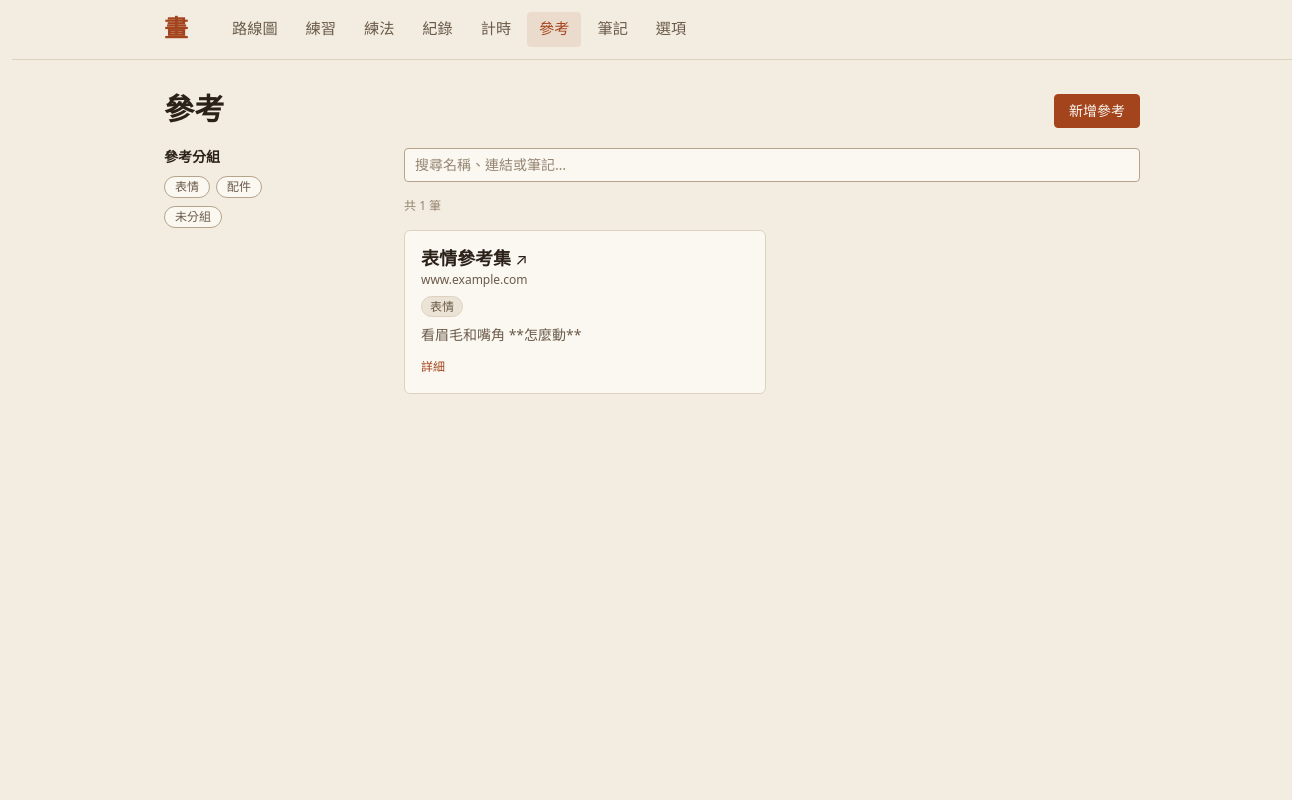
Test: the references library › writes a group click and 未分組 to the URL and refetches with them
The width and height of the screenshot is (1292, 800).
Click the button "配件": (239, 187) [216,176,262,198]
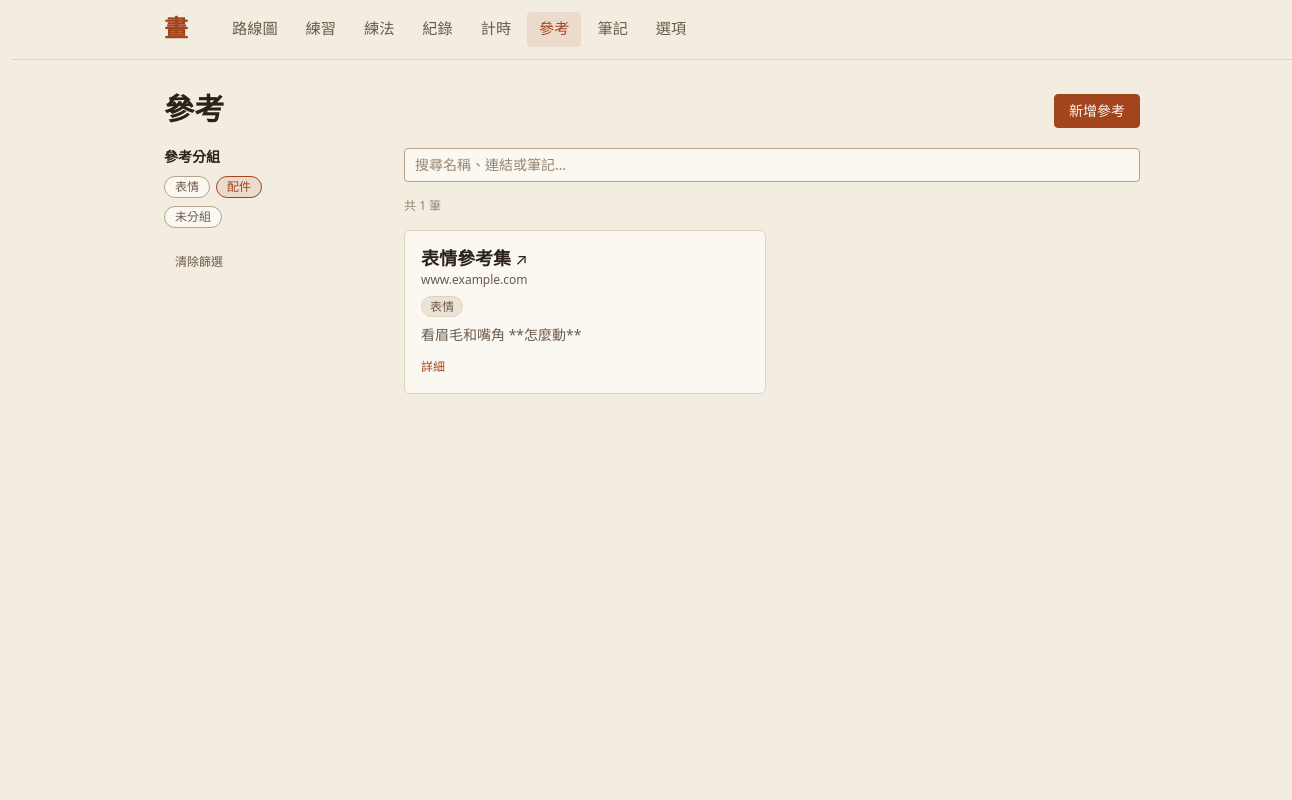
Click the button "未分組": (193, 217) [164,206,222,228]
(page scrolled)
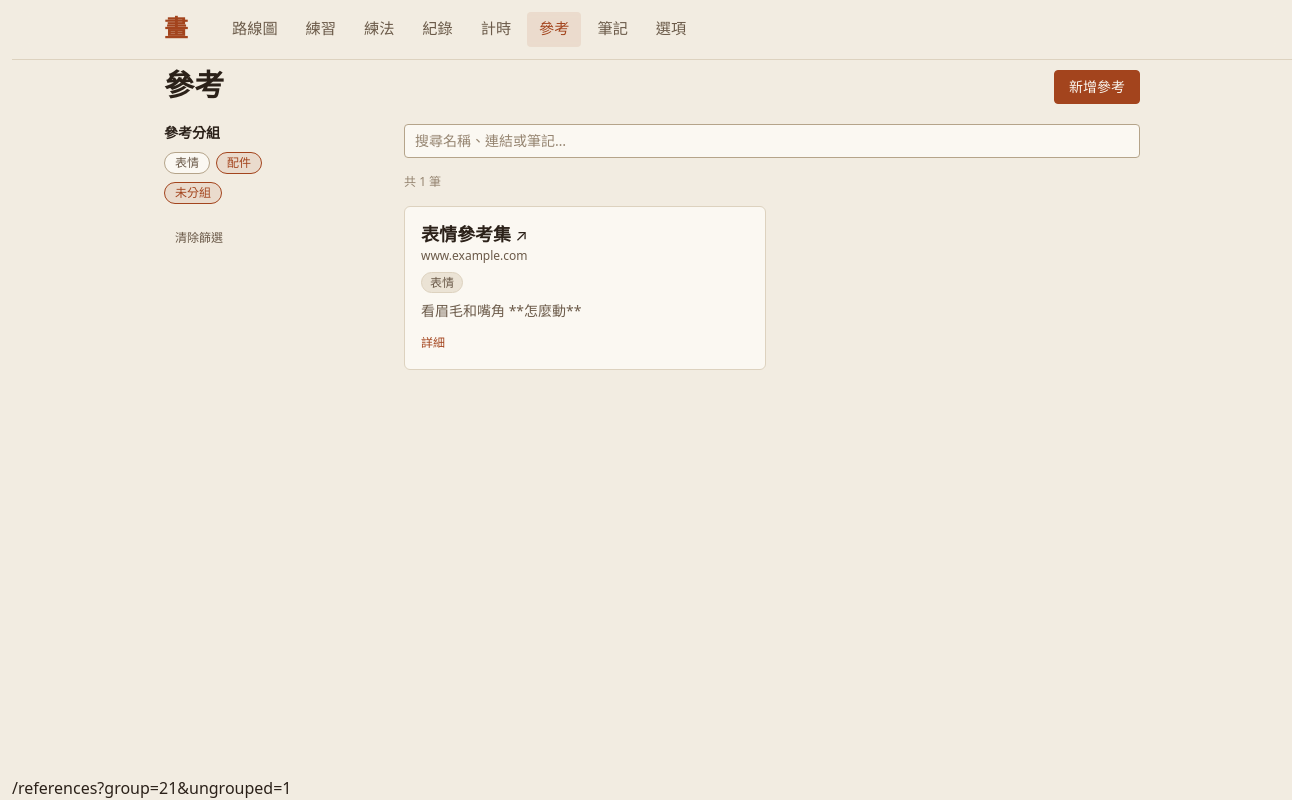
Result: the text with test id "location" reads "/references?group=21&ungrouped=1" at [12,777,292,799]
